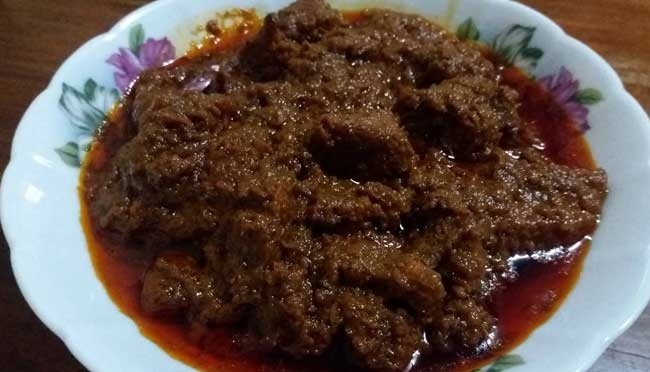rendang: (120, 7, 601, 361)
